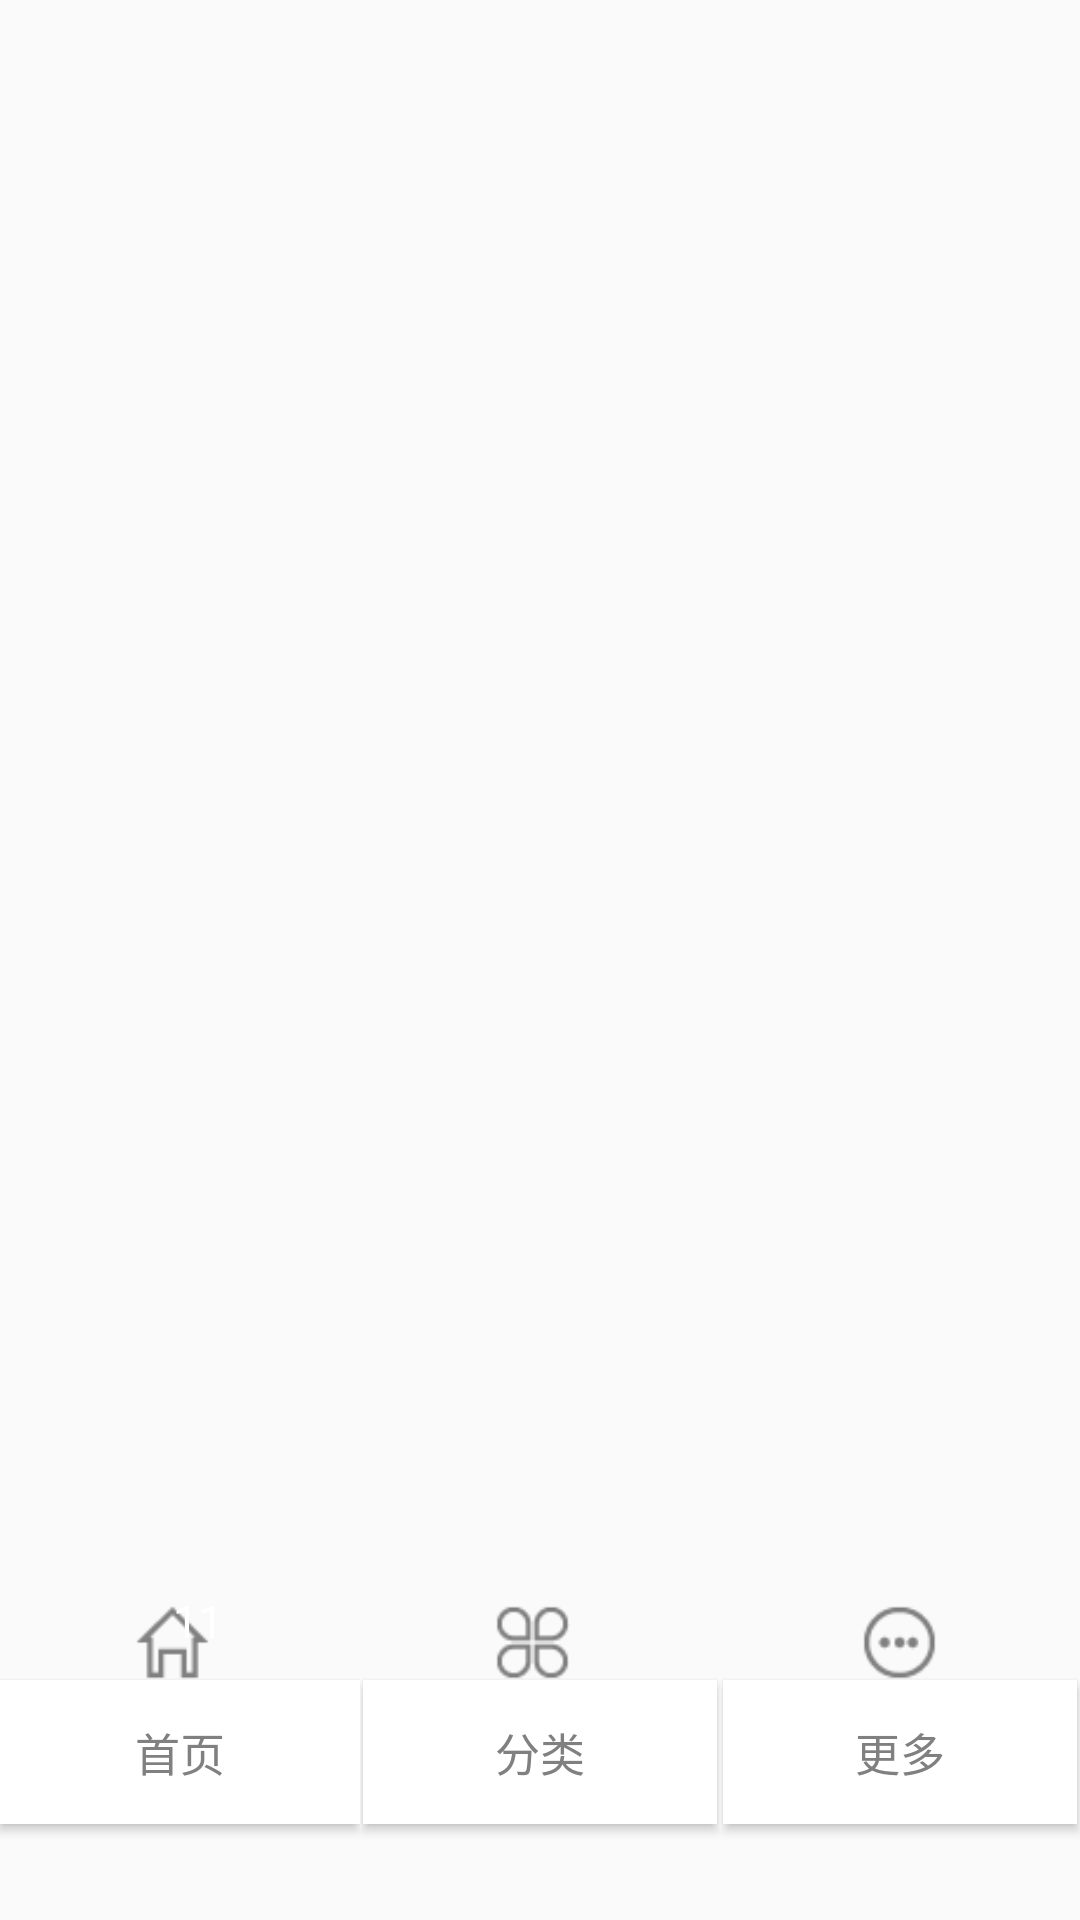

Where to tap for icons on this 1080px x 1920px app screen, as (x=x, y=y):
main: (x=172, y=1642)
more: (x=899, y=1642)
type: (x=533, y=1642)
